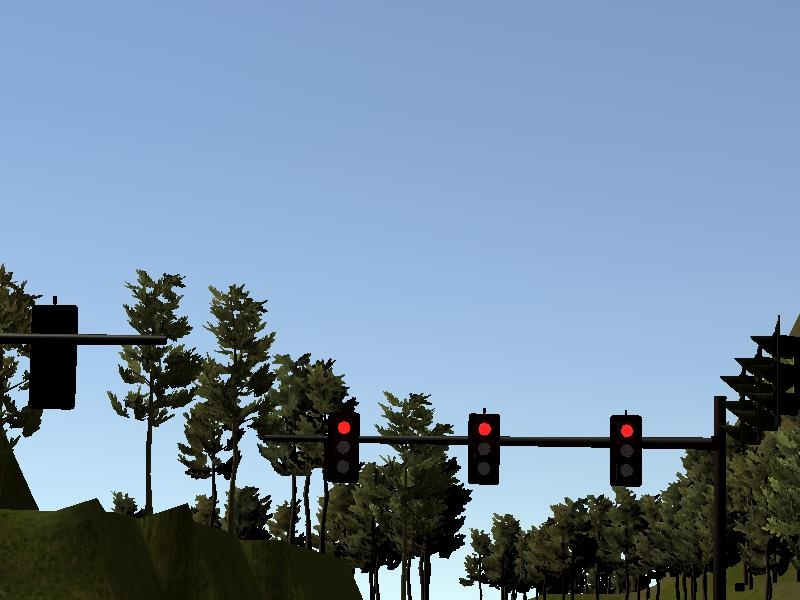traffic_light_red: (307, 411, 708, 487)
